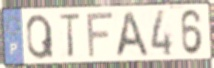4: (148, 8, 176, 58)
6: (179, 7, 205, 58)
A: (113, 9, 151, 60)
F: (85, 10, 116, 60)
Q: (25, 13, 56, 61)
T: (57, 12, 83, 61)
